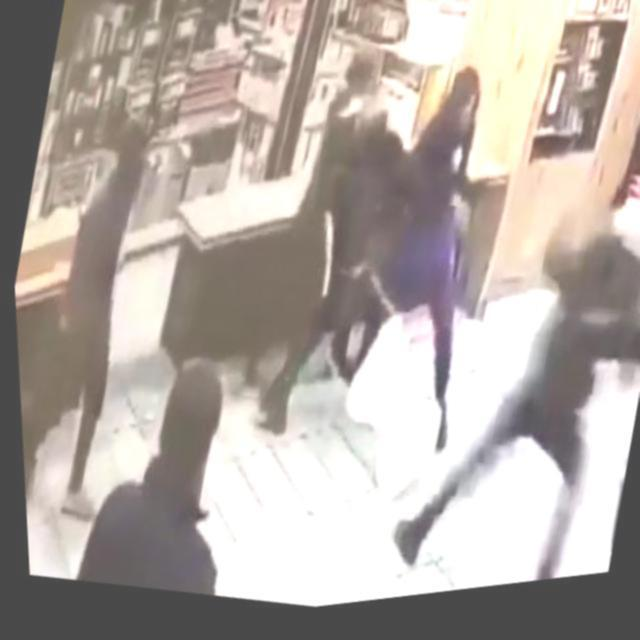fight: (238, 36, 525, 488)
